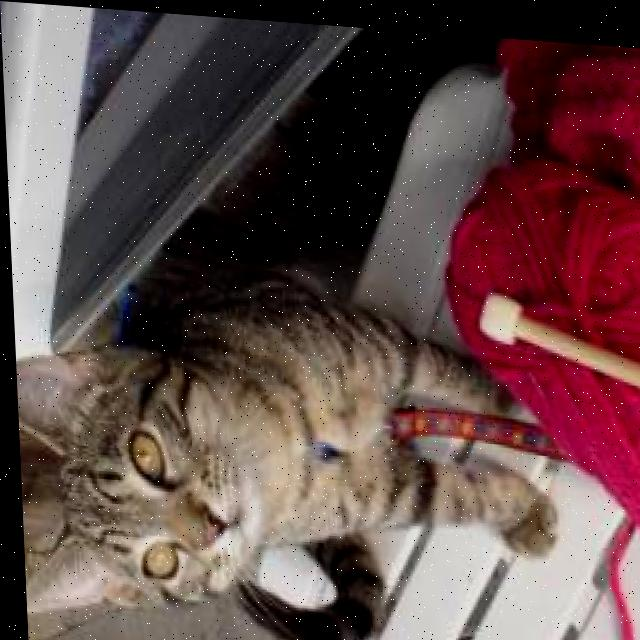Egyptian Mau: (9, 248, 565, 640)
